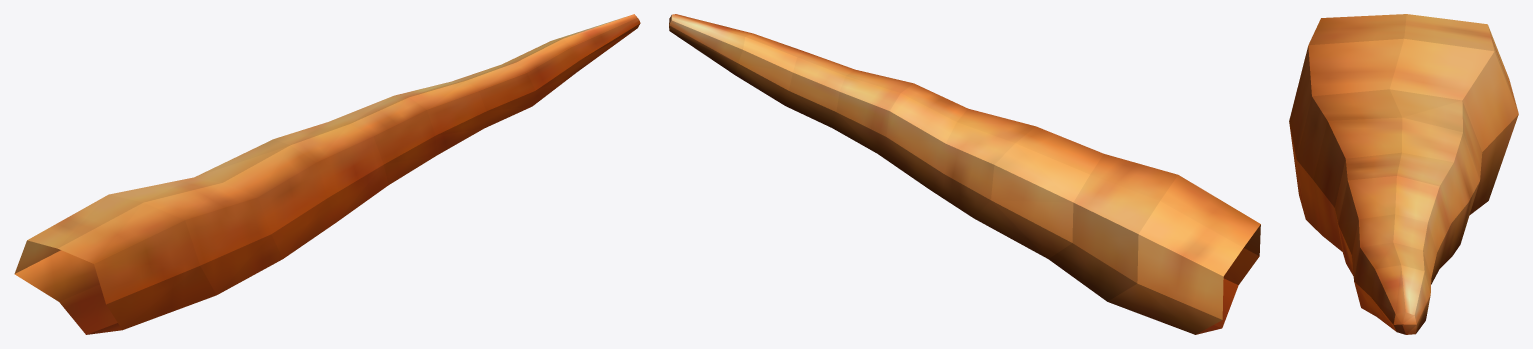
File: CARROT NOSE.fbx
The picture shows the model from 3 angles, left to right: view 1: azimuth 30°, elevation 25°; view 2: azimuth 150°, elevation 25°; view 3: azimuth 270°, elevation 25°; orthographic projection. The views are drawn at different scales.
Visible parts, largest first — view 1: CARROT_NOSE; view 2: CARROT_NOSE; view 3: CARROT_NOSE.
Part boxes in pixels (x1,y1,x2,y2): CARROT_NOSE: (14, 14, 640, 334); CARROT_NOSE: (669, 14, 1260, 334); CARROT_NOSE: (1289, 14, 1518, 334).
Bounding box in the file's own units: 32.35 × 9.62 × 6.83.
